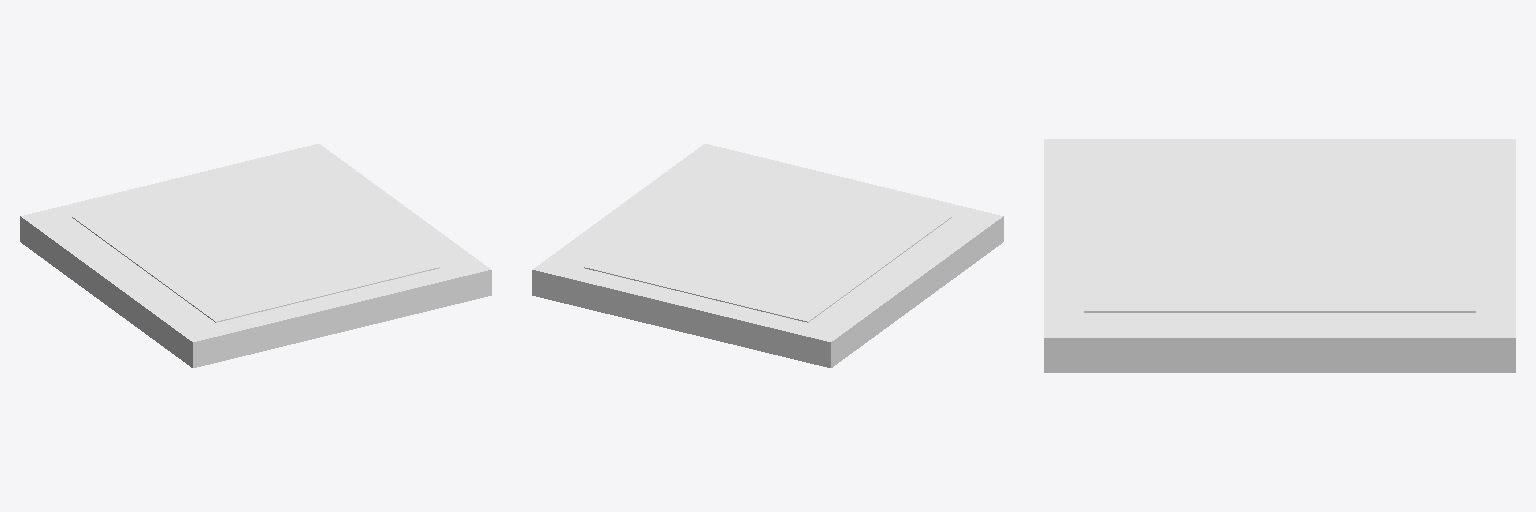
URDF robot description (aruco):
<?xml version="1.0" ?>
<robot name="aruco">
  <link name="arucoLink">
  <contact>
      <lateral_friction value="1"/>
  </contact>
    <inertial>
      <origin rpy="0 0 0" xyz="0 0 0"/>
       <mass value=".0"/>
       <inertia ixx="0" ixy="0" ixz="0" iyy="0" iyz="0" izz="0"/>
    </inertial>
    <visual>
      <origin rpy="1.570796 0 0" xyz="0 0 0"/>
      <geometry>
				<mesh filename="calibration.obj" scale="1 1 1"/>
      </geometry>
       <material name="white">
        <color rgba="1 1 1 1"/>
      </material>
    </visual>
    <collision>
      <origin rpy="1.570796 0 0" xyz="0 0 0"/>
      <geometry>
		<mesh filename="calibration.obj" scale="1 1 1"/>
      </geometry>
    </collision>
  </link>
</robot>

--- Facts derived from the render (not from the file) ---
Views: 3 orthographic renders of the robot side by side, from view 1: azimuth 30°, elevation 25°; view 2: azimuth 150°, elevation 25°; view 3: azimuth 270°, elevation 25°.
Robot: aruco — 1 links, 0 joints (none); root link arucoLink; default pose: every joint at zero.
Links seen in each view (by area): view 1: arucoLink; view 2: arucoLink; view 3: arucoLink.
Link boxes in pixels (<box>): arucoLink: <box>20,144,491,367</box>; arucoLink: <box>532,144,1003,367</box>; arucoLink: <box>1044,139,1515,372</box>.
Size in the robot's own frame: 0.3 by 0.3 by 0.026 metres.
1 mesh visuals loaded from 1 distinct referenced files (1 OBJ).